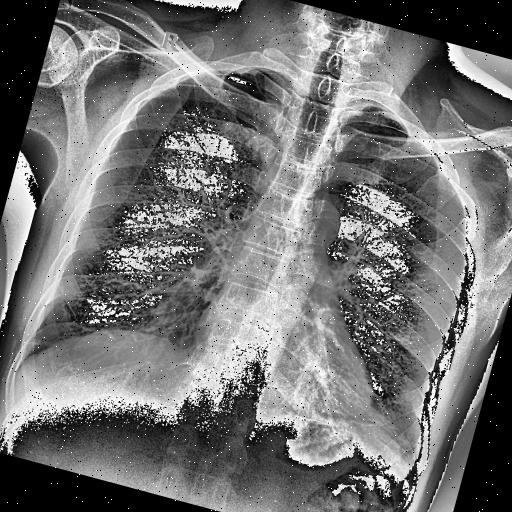1- Atelectasis: (281, 383, 434, 481)
13- Pulmonary fibrosis: (226, 54, 288, 114)
5- ILD: (25, 86, 284, 423), (260, 183, 478, 473), (342, 400, 430, 472)
